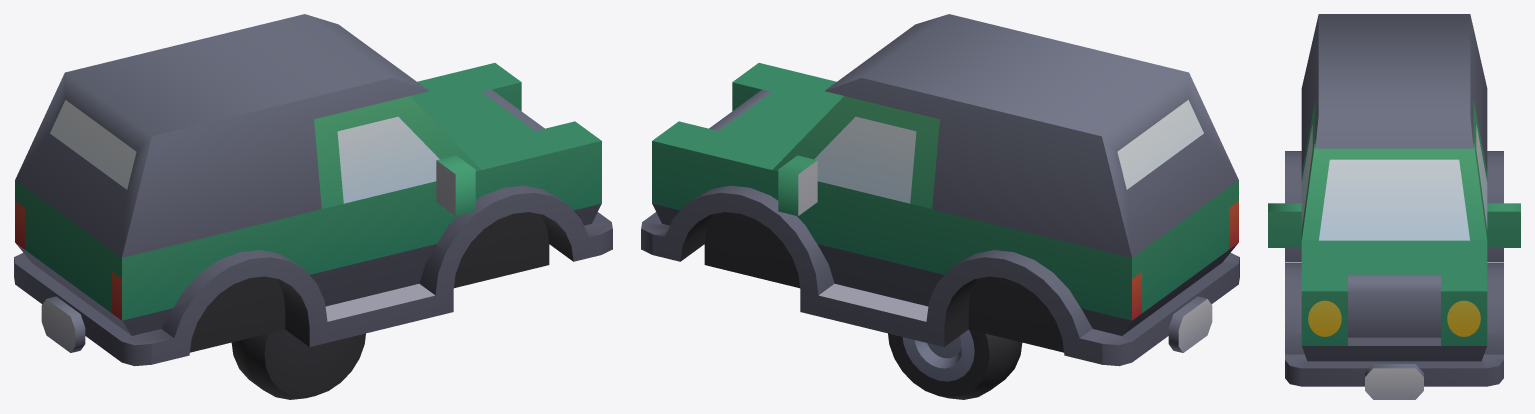
The model's file is suv.glb.
3 views of the same model, side by side, from view 1: azimuth 30°, elevation 25°; view 2: azimuth 150°, elevation 25°; view 3: azimuth 270°, elevation 25° (orthographic). The views are drawn at different scales.
Visible parts, largest first — view 1: body, wheel; view 2: body, wheel; view 3: body.
Boxes of the visible parts, left/top/right/bottom form: body: left=14, top=14, right=612, bottom=366; wheel: left=231, top=329, right=365, bottom=399; body: left=641, top=14, right=1239, bottom=366; wheel: left=888, top=329, right=1022, bottom=399; body: left=1268, top=14, right=1520, bottom=399.
Size of the model in its own units: 4.2 by 2.64 by 2.08.
